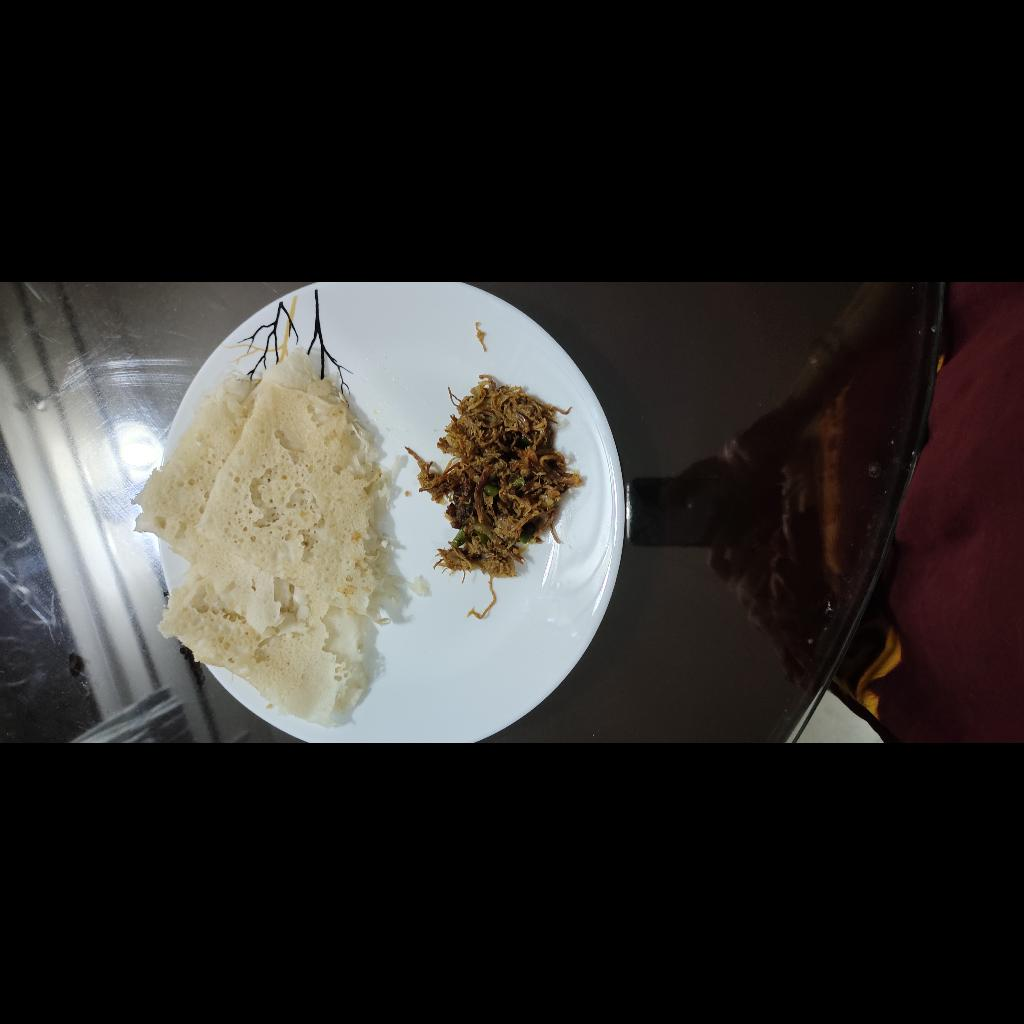fish: (122, 685, 368, 865)
ruti: (11, 414, 392, 679)
